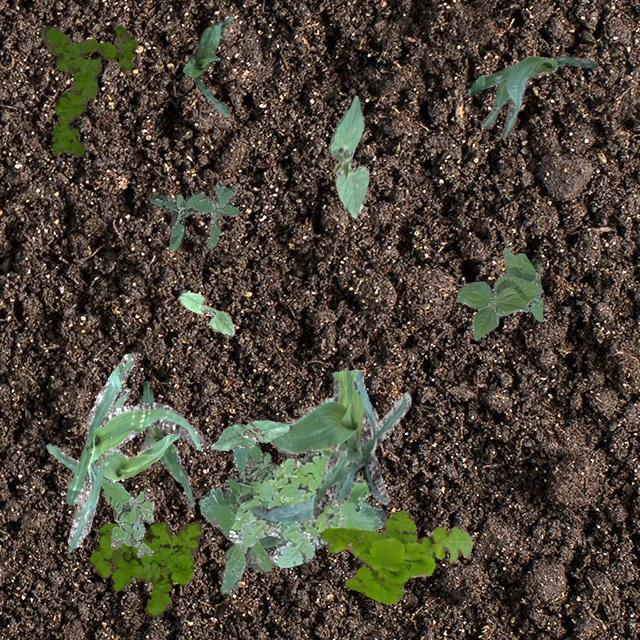crop: (64, 352, 204, 552), (248, 369, 410, 521), (45, 386, 178, 482), (466, 54, 596, 136), (454, 246, 542, 340), (140, 379, 194, 506), (182, 15, 232, 114), (328, 95, 368, 216), (210, 418, 290, 449), (178, 292, 234, 336)
weed: (228, 448, 386, 566), (318, 508, 472, 602), (40, 24, 136, 156), (198, 444, 282, 594), (88, 520, 200, 616), (150, 182, 238, 250), (100, 478, 154, 556)
